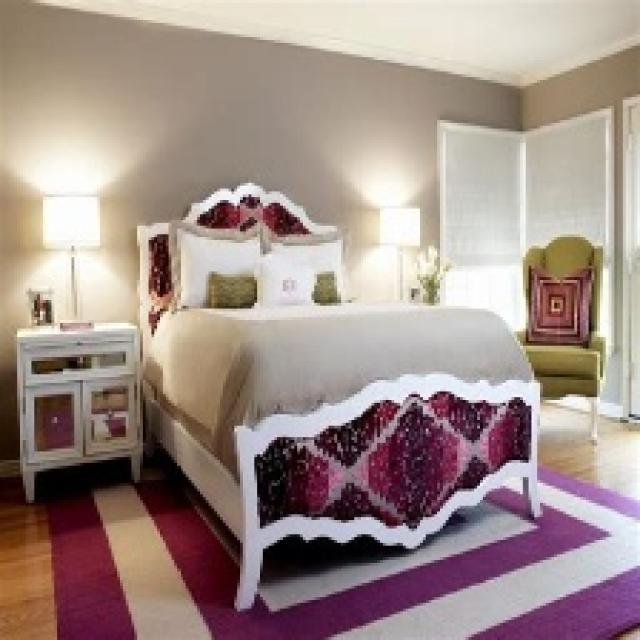Bed: (134, 180, 543, 611)
